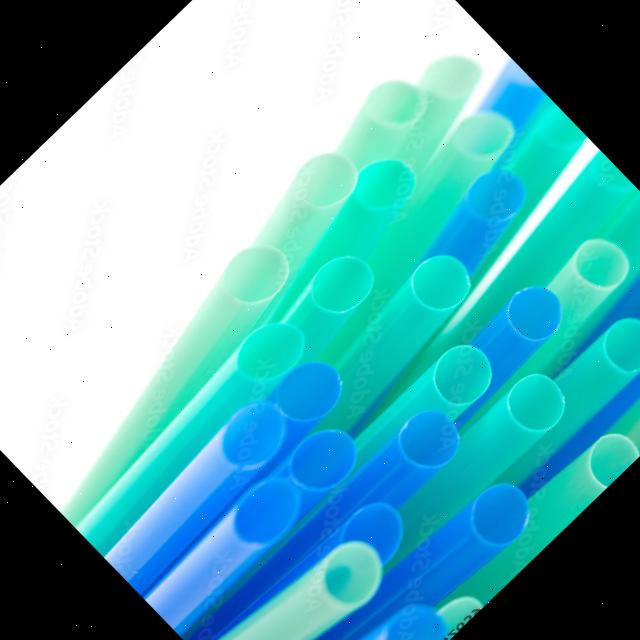plastic: (200, 517, 402, 640)
